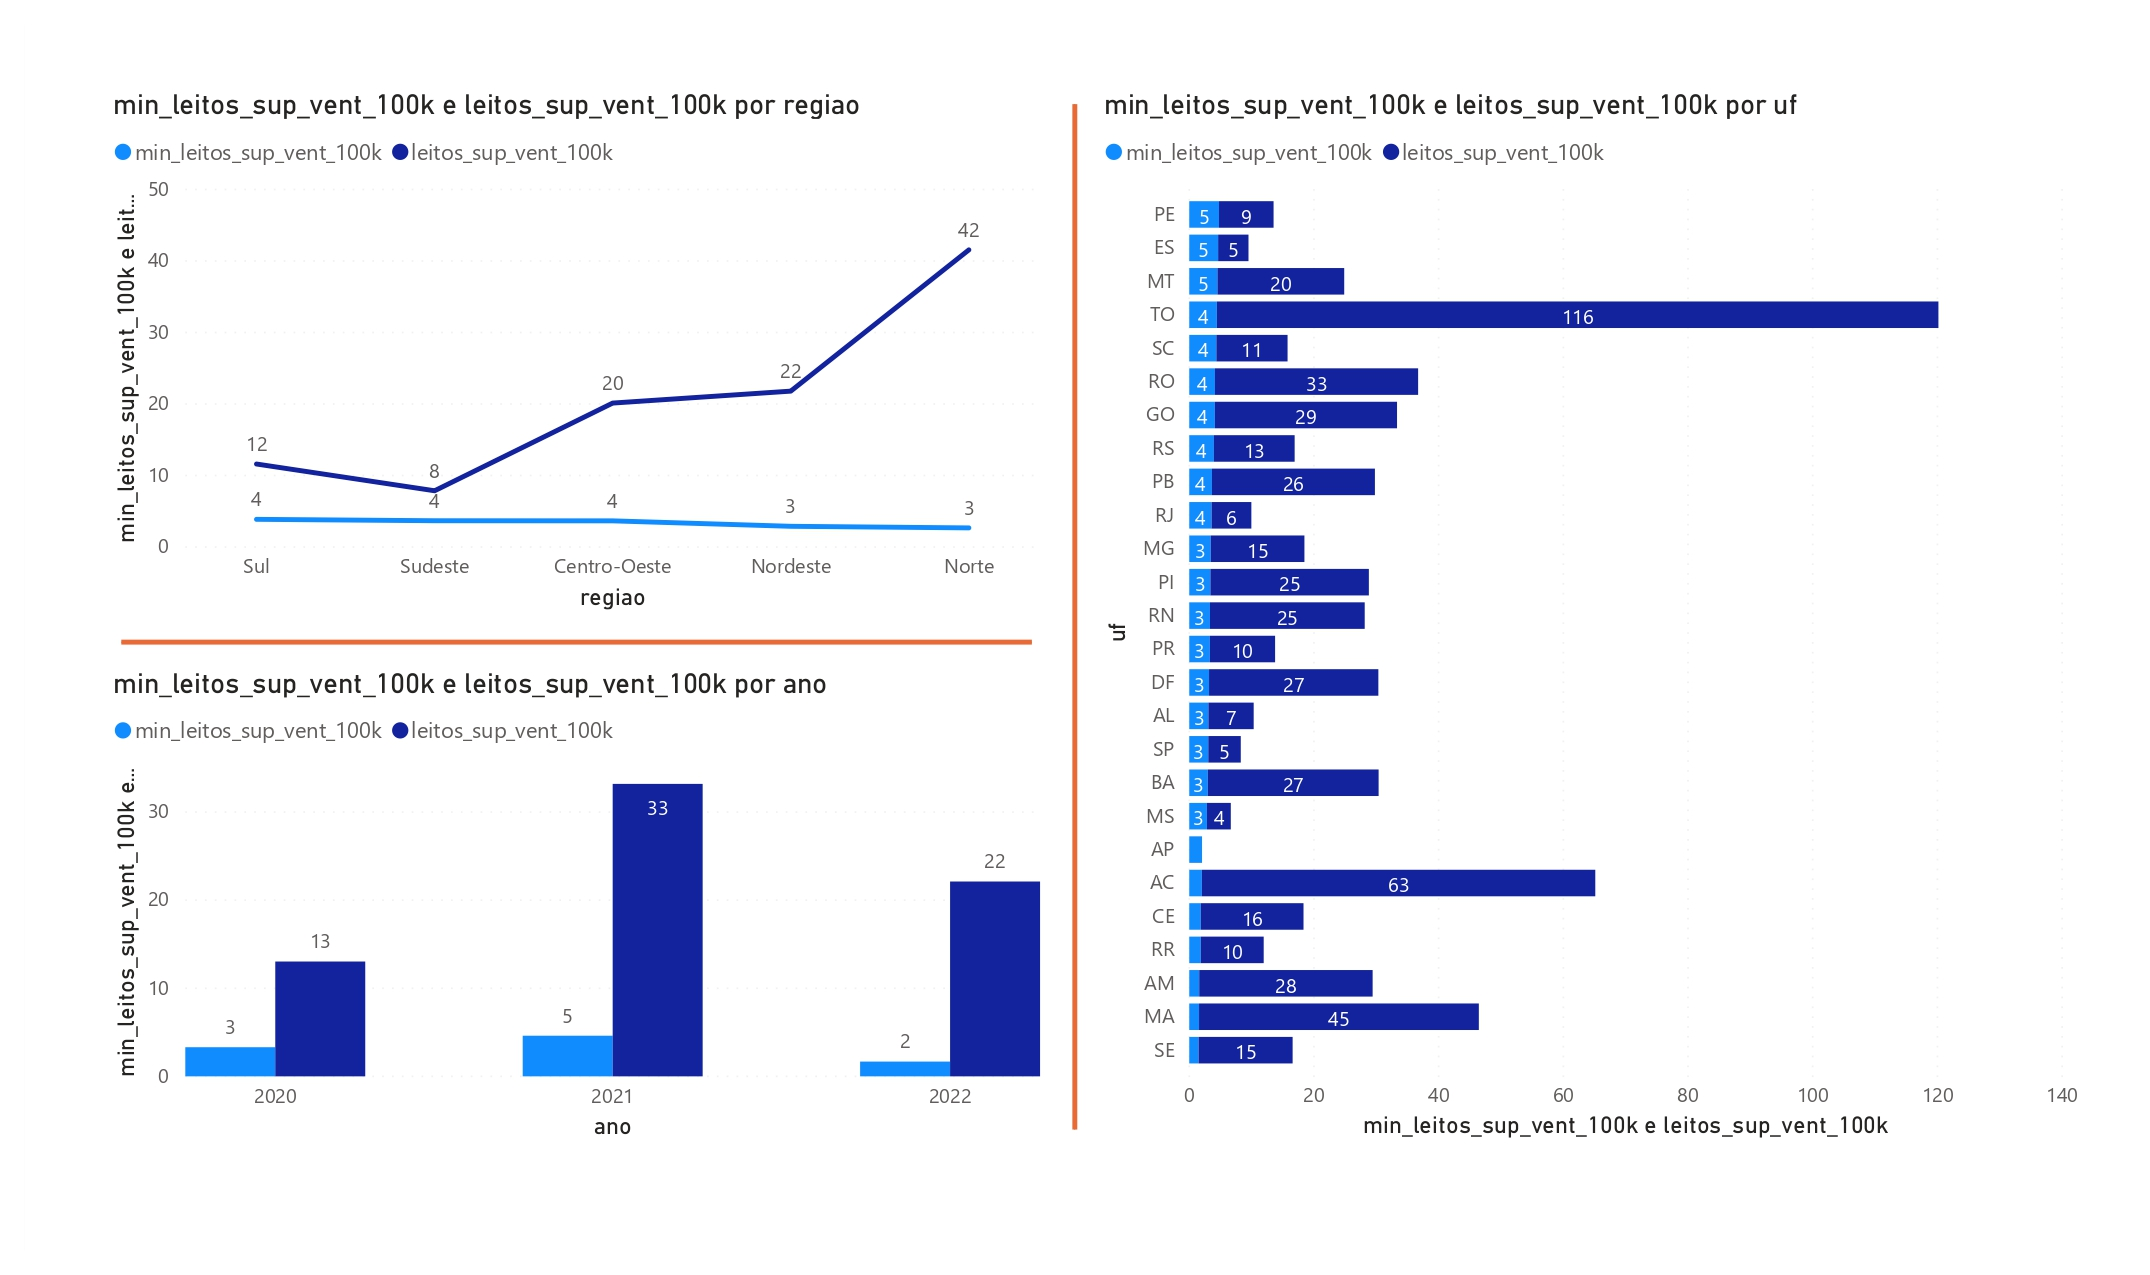

Layout of this report page (visuals, bound fields, positions):
{"tool":"powerbi","page":{"name":"Suporte Beneficiária  100K","canvas":[1280,720],"ordinal":3},"visuals":[{"type":"basicShape","box":[624.7,25.5,28.9,645.1],"z":0},{"type":"lineChart","fields":{"Y":["Avg(projetotcc fato_recursos.quant_min_sup_vent_100k)","Avg(projetotcc fato_recursos.quant_sup_vent_100k)"],"Category":["projetotcc dim_local.regiao"]},"box":[49,26,575,323],"z":5},{"type":"clusteredColumnChart","fields":{"Category":["projetotcc dim_tempo.ano"],"Y":["Avg(projetotcc fato_recursos.quant_sup_vent_desejavel)","Avg(projetotcc fato_recursos.quant_sup_vent_100k)"]},"box":[49,378,575,293],"z":2000},{"type":"barChart","fields":{"Category":["projetotcc dim_local.uf","projetotcc dim_local.regiao"],"Y":["Avg(projetotcc fato_recursos.quant_min_sup_vent_100k)","Avg(projetotcc fato_recursos.quant_sup_vent_100k)"]},"box":[653.6,25.5,604.3,645.1],"z":3000},{"type":"basicShape","box":[49.4,348.9,575.3,28.9],"z":4000}]}

Visuals, with their boxes on the page's 1280x720 design canvas (x1, y1, x2, y2). These are canvas units, not pixel positions in the 2150x1275 screenshot, which may show the page scaled, cropped or inside an application window:
basicShape: left=625, top=26, right=654, bottom=671
lineChart - Avg(projetotcc fato_recursos.quant_min_sup_vent_100k) x Avg(projetotcc fato_recursos.quant_sup_vent_100k): left=49, top=26, right=624, bottom=349
clusteredColumnChart - projetotcc dim_tempo.ano x Avg(projetotcc fato_recursos.quant_sup_vent_desejavel): left=49, top=378, right=624, bottom=671
barChart - projetotcc dim_local.uf x projetotcc dim_local.regiao: left=654, top=26, right=1258, bottom=671
basicShape: left=49, top=349, right=625, bottom=378
